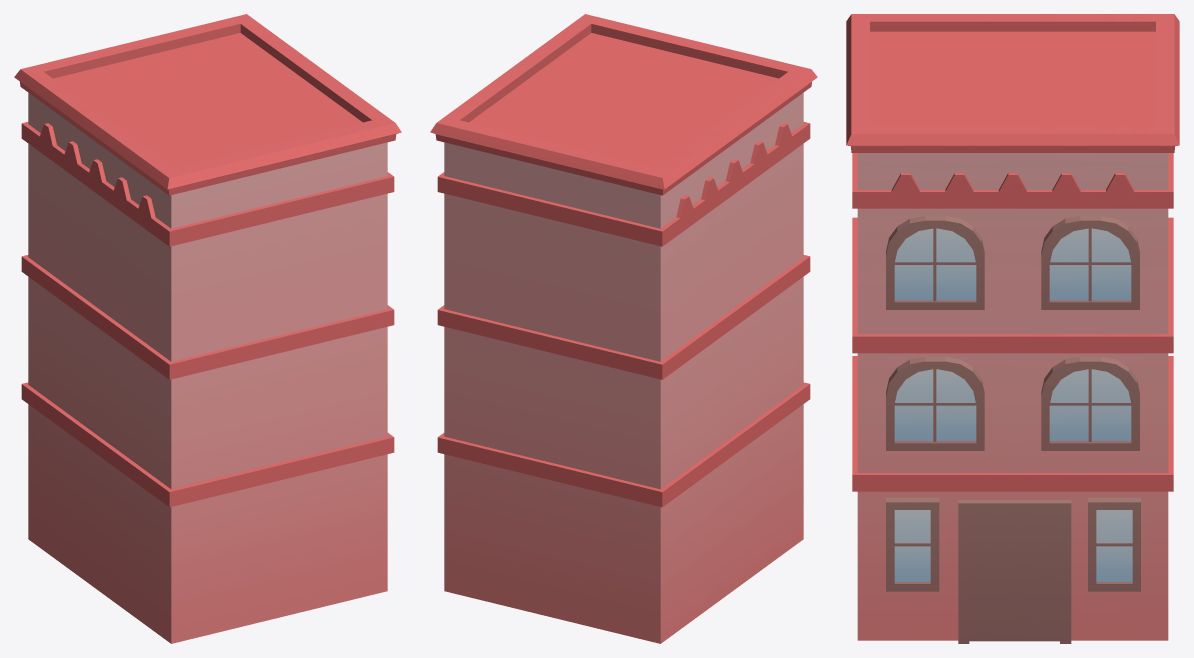
Rendered from Gebeude_2.glb.
The picture shows the model from 3 angles, left to right: view 1: azimuth 30°, elevation 25°; view 2: azimuth 150°, elevation 25°; view 3: azimuth 270°, elevation 25°; orthographic projection. The views are drawn at different scales.
Parts seen in each view (by area): view 1: Haus2; view 2: Haus2; view 3: Haus2.
Part boxes in pixels (x1,y1,x2,y2): Haus2: [14, 14, 401, 643]; Haus2: [430, 14, 817, 643]; Haus2: [846, 14, 1179, 643].
Bounding box in the file's own units: 5.38 × 10.3 × 6.1.
1 material, 1 textured.
